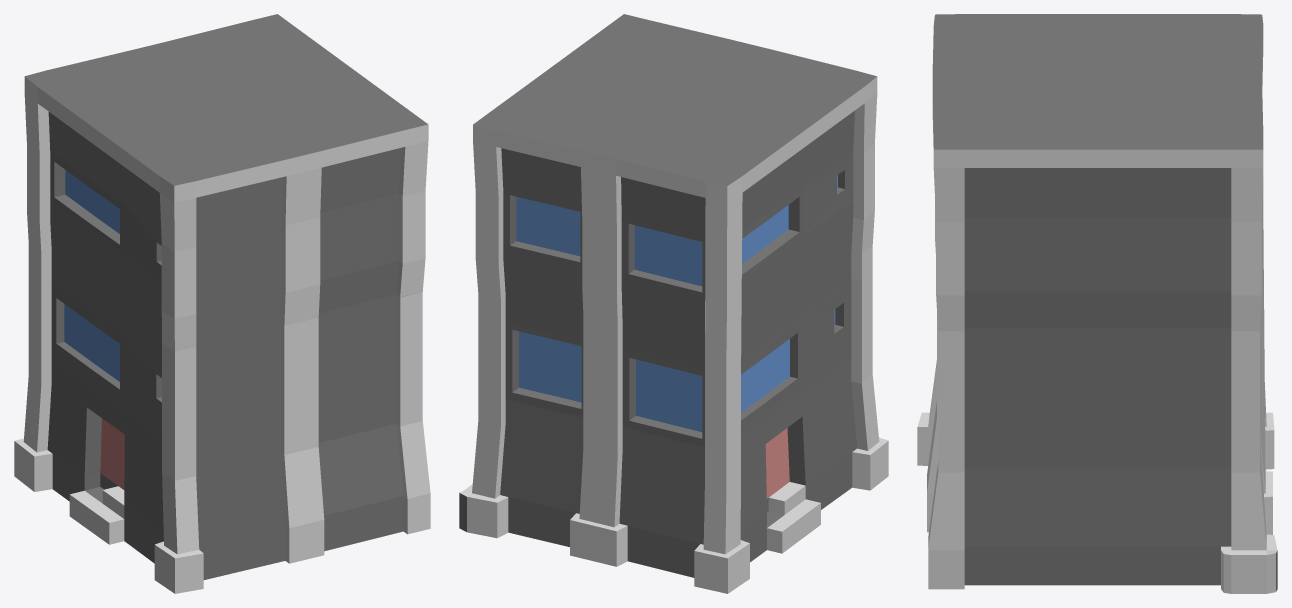
File: RMK Modelo Predio 2 andares 1.fbx
3 views of the same model, side by side, from view 1: azimuth 30°, elevation 25°; view 2: azimuth 150°, elevation 25°; view 3: azimuth 270°, elevation 25° (orthographic). The views are drawn at different scales.
Visible parts, largest first — view 1: Cube; view 2: Cube; view 3: Cube.
Boxes of the visible parts, bbox=[...] form: Cube: bbox=[14, 14, 430, 593]; Cube: bbox=[459, 14, 888, 593]; Cube: bbox=[917, 14, 1277, 593].
Bounding box in the file's own units: 216 × 310 × 230.
1 material, 1 textured.
